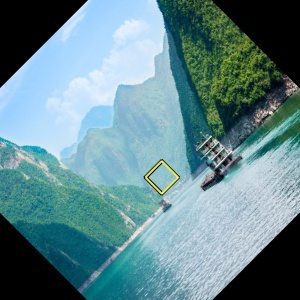square: (141, 158, 181, 196)
